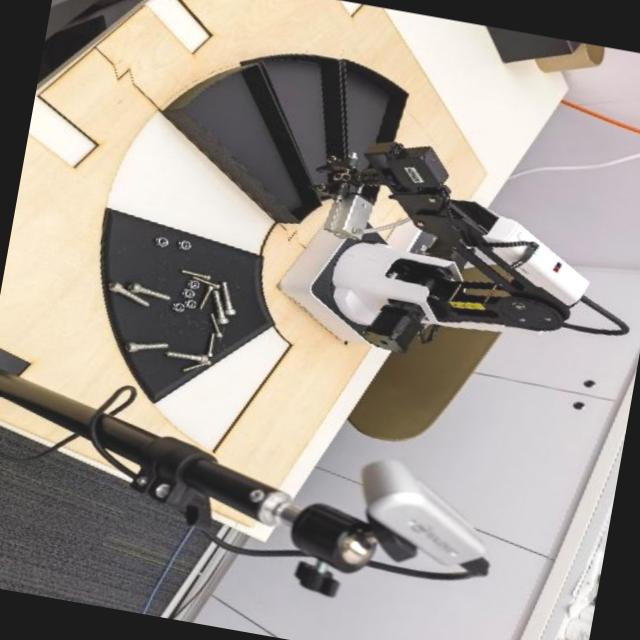big: (106, 276, 152, 314), (126, 280, 173, 305), (214, 278, 238, 319), (165, 348, 211, 364), (212, 288, 230, 324), (123, 340, 172, 352)
box: (157, 56, 330, 254), (245, 42, 355, 213), (298, 53, 417, 208)
circle: (150, 233, 172, 249), (176, 237, 194, 254), (179, 284, 196, 300), (171, 300, 187, 314), (186, 277, 202, 289), (183, 297, 199, 309)
small: (204, 308, 225, 339), (196, 282, 216, 311), (180, 356, 213, 373), (178, 265, 212, 280), (189, 272, 220, 288), (206, 331, 216, 357)
